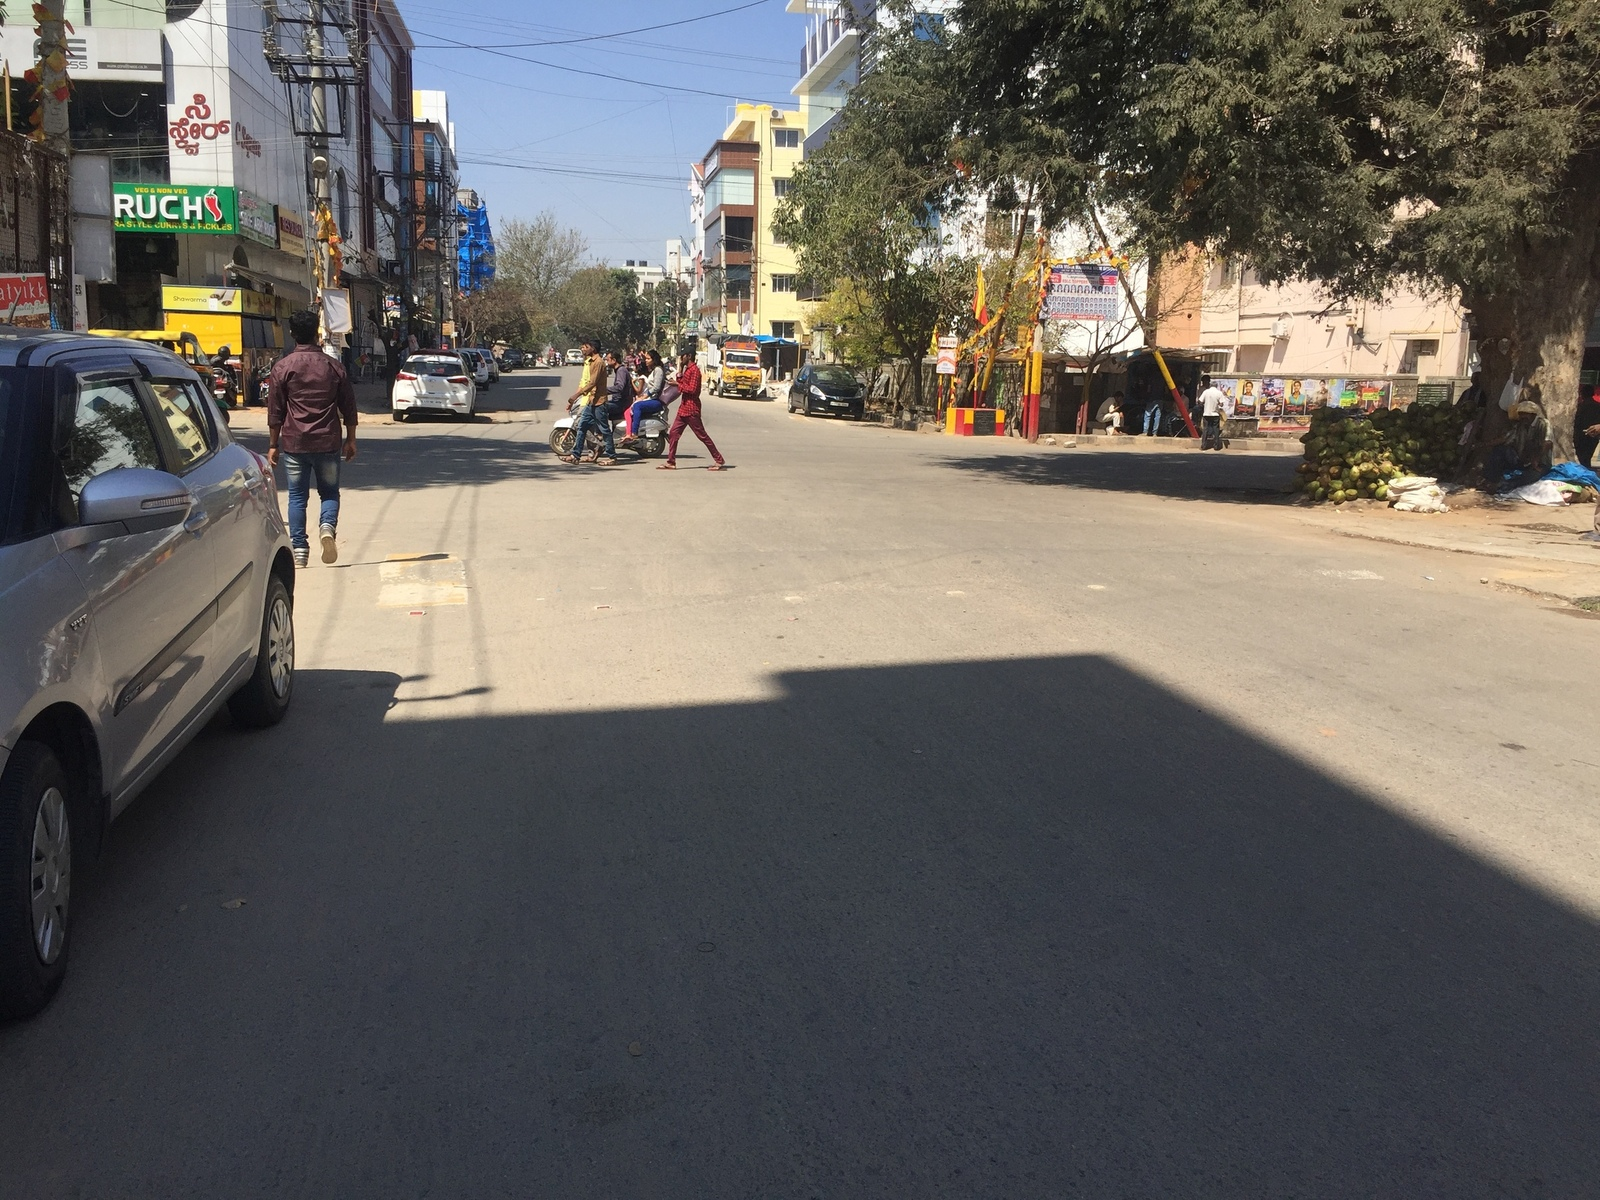bump: (307, 551, 1480, 608)
